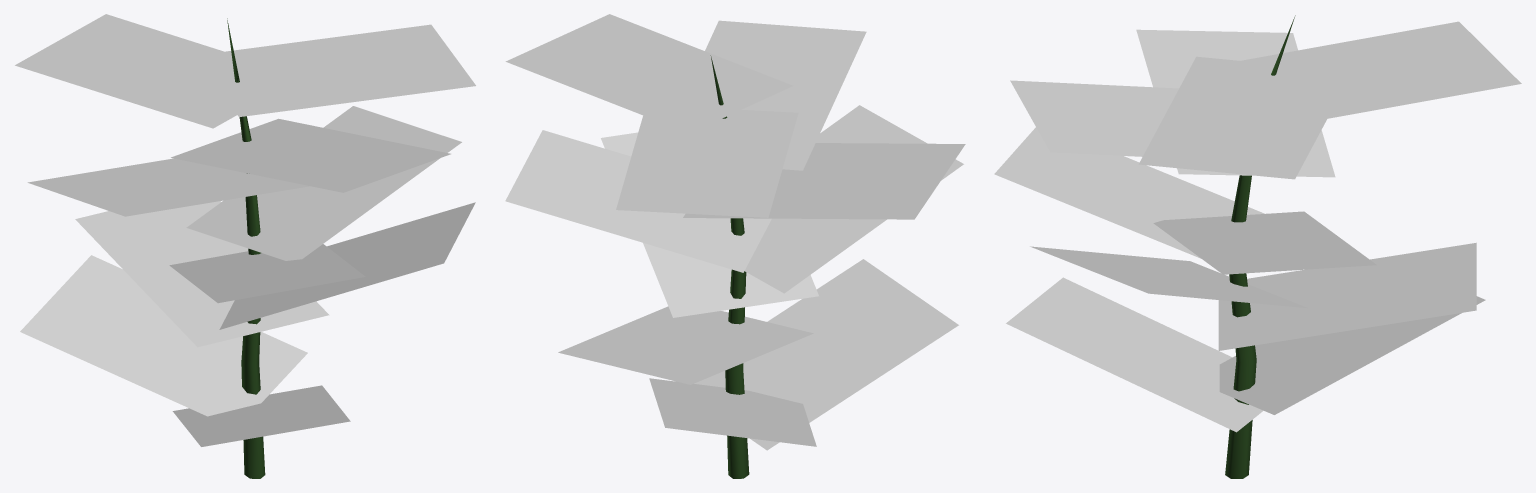
File: Bodenpflanze 4.fbx
3 renders of one model, left to right at view 1: azimuth 30°, elevation 25°; view 2: azimuth 150°, elevation 25°; view 3: azimuth 270°, elevation 25°, orthographic. The views are drawn at different scales.
Visible parts, largest first — view 1: Plane.006, Cylinder; view 2: Plane.006, Cylinder; view 3: Plane.006, Cylinder.
Boxes of the visible parts, x1,y1,x2,y2 form: Plane.006: [15, 14, 475, 446]; Cylinder: [227, 18, 265, 478]; Plane.006: [505, 14, 965, 450]; Cylinder: [710, 55, 749, 478]; Plane.006: [994, 21, 1521, 432]; Cylinder: [1225, 15, 1295, 478].
Size of the model in its own units: 2.11 by 2.18 by 2.27.
